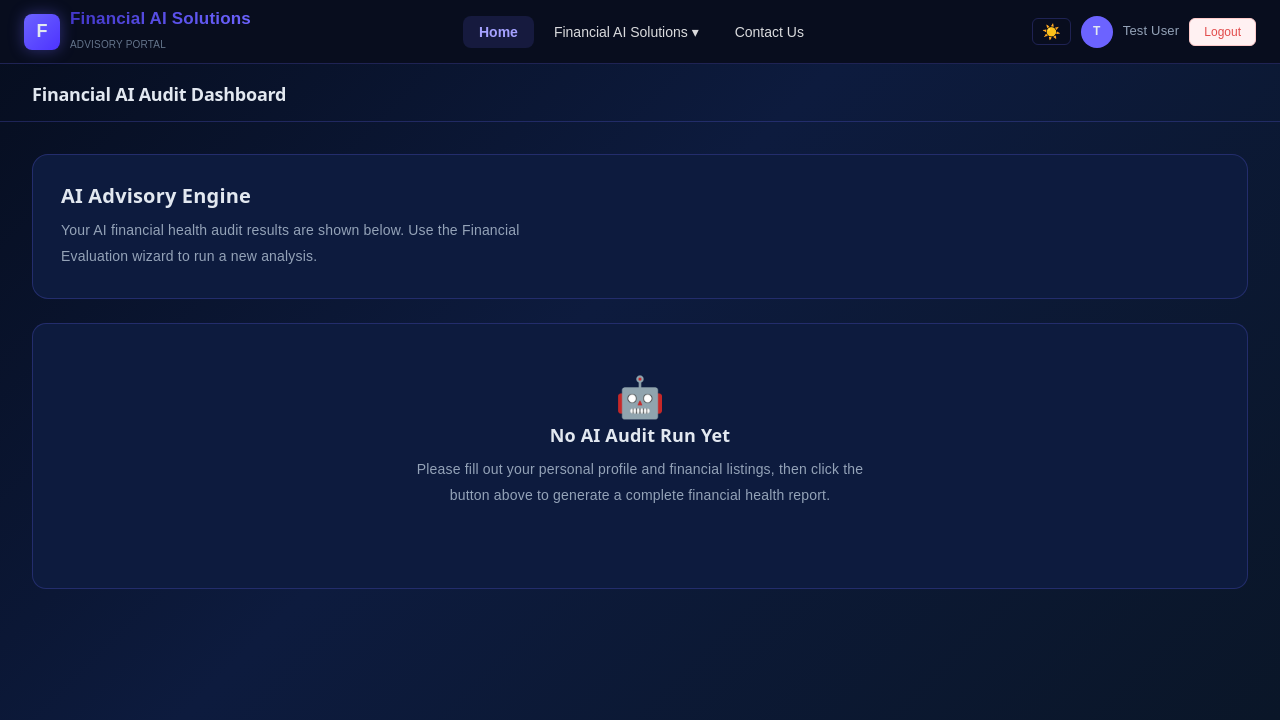
Test: Home – top navbar › clicking Home navigates to AI Audit Dashboard
Click the button "Contact Us" at (769, 32), box [719,16,820,48]
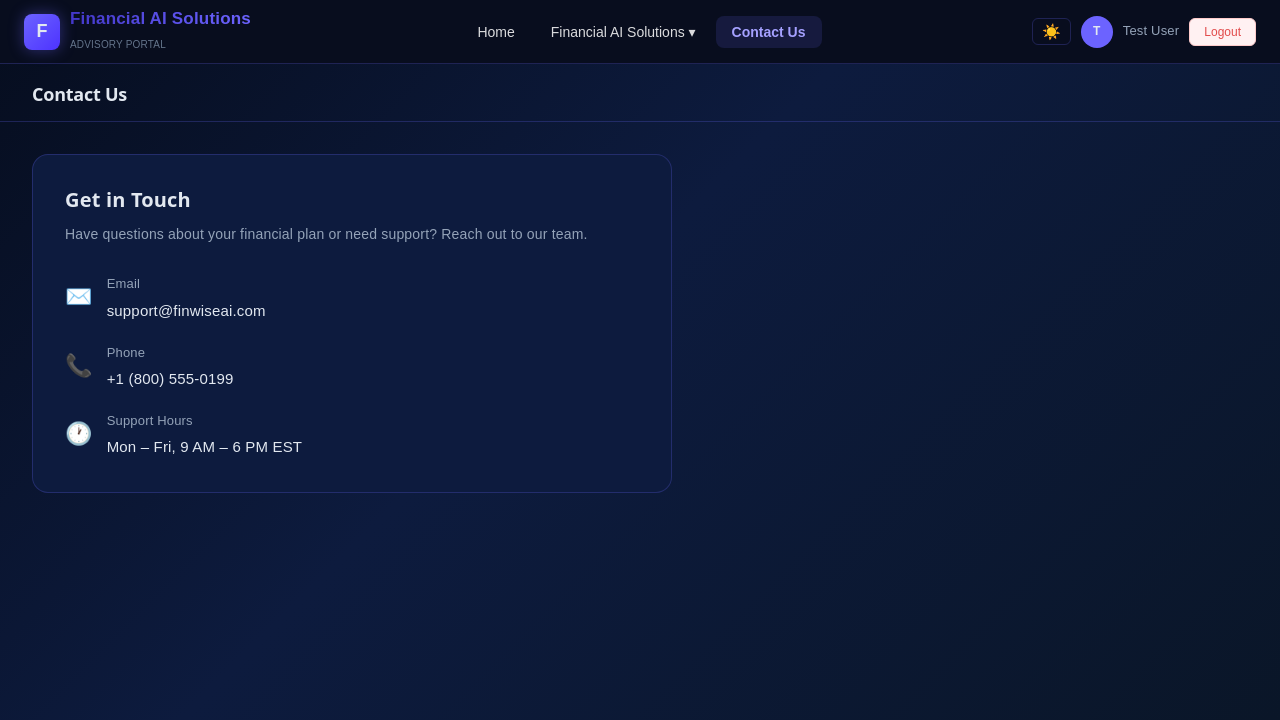
Click the button "Home" at (496, 32), box [462,16,531,48]
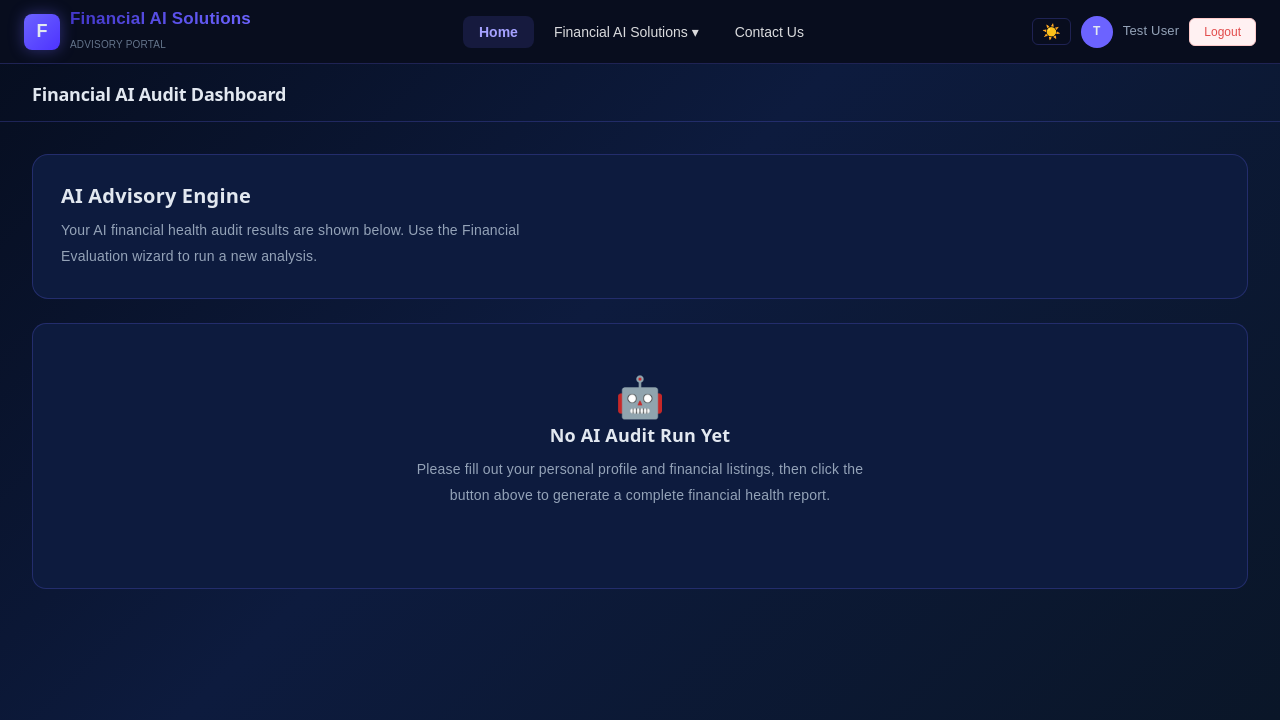
Expected: the heading "Financial AI Audit Dashboard" is shown, [32,82,286,106]
